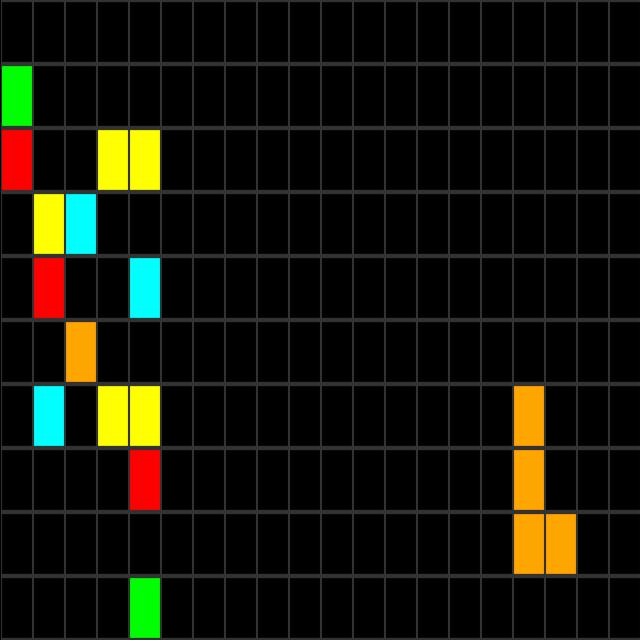Tetrimino_I: (514, 386, 574, 572)
